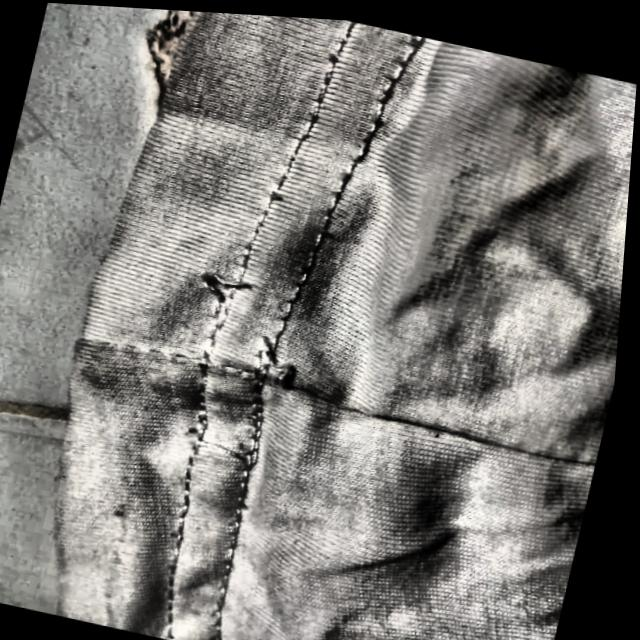Stitch: (162, 215, 281, 341), (244, 341, 350, 422)
